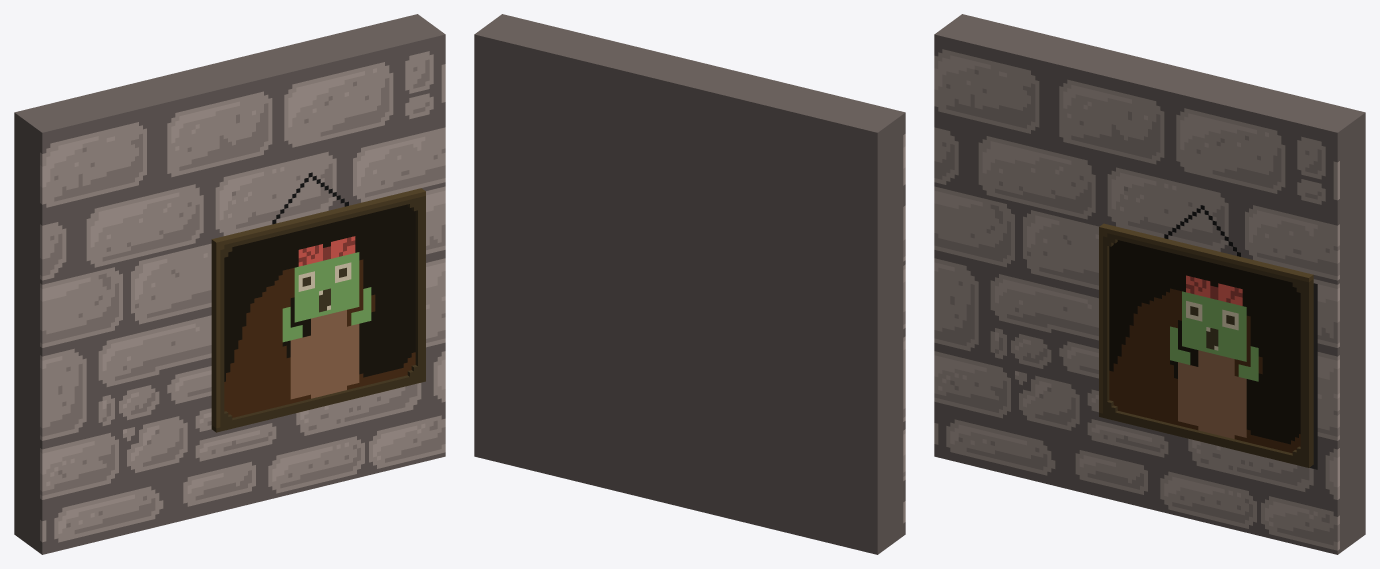
File: GGJ walls 1.3.obj
3 renders of one model, left to right at view 1: azimuth 30°, elevation 25°; view 2: azimuth 150°, elevation 25°; view 3: azimuth 330°, elevation 25°, orthographic.
Bounding box in the file's own units: 10 × 10 × 1.4.
1 material, 1 textured.
